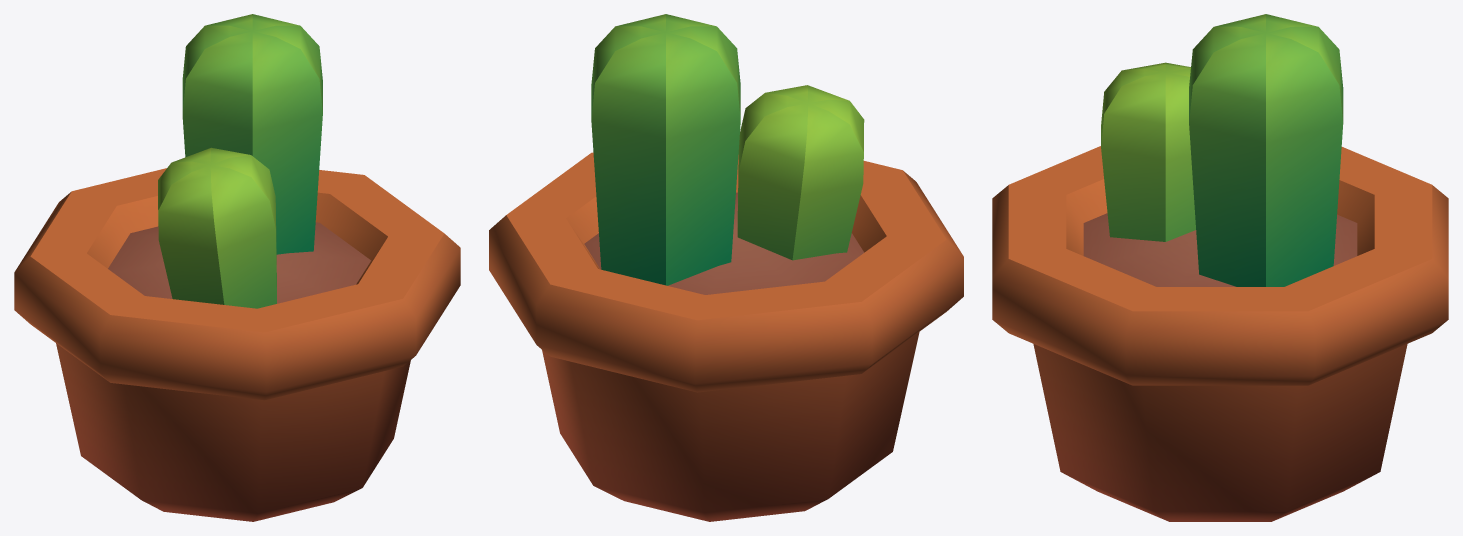
File: plant-small.glb
3 views of the same model, side by side, from view 1: azimuth 30°, elevation 25°; view 2: azimuth 150°, elevation 25°; view 3: azimuth 270°, elevation 25° (orthographic). The views are drawn at different scales.
Parts seen in each view (by area): view 1: cactus_small_A; view 2: cactus_small_A; view 3: cactus_small_A.
Part boxes in pixels (x1,y1,x2,y2): cactus_small_A: [14, 14, 460, 521]; cactus_small_A: [489, 14, 963, 521]; cactus_small_A: [992, 14, 1448, 521].
Size of the model in its own units: 0.5 by 0.5516 by 0.5.
1 material, 1 textured.
